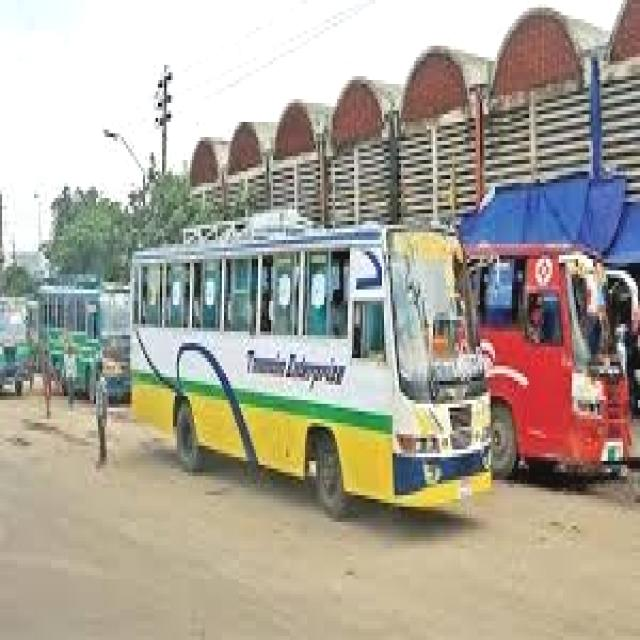bus: (128, 202, 496, 564), (484, 204, 640, 526), (37, 264, 129, 427)
